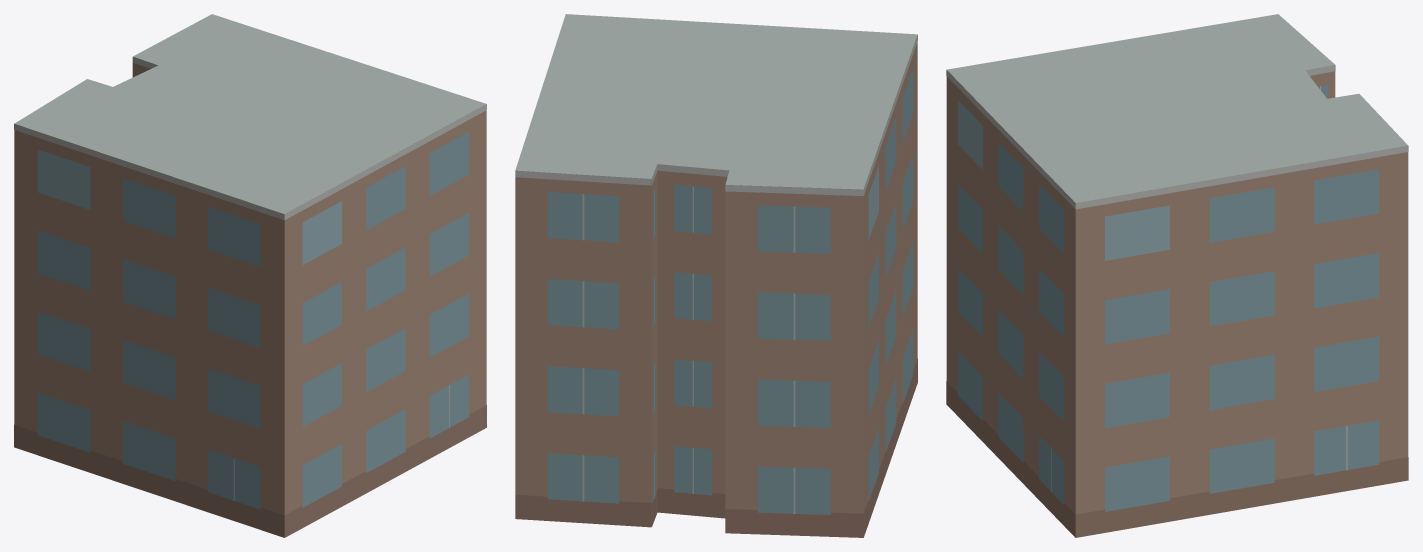
The model's file is survey-upis-32894096.glb.
3 renders of one model, left to right at view 1: azimuth 30°, elevation 25°; view 2: azimuth 150°, elevation 25°; view 3: azimuth 270°, elevation 25°, orthographic. The views are drawn at different scales.
Parts seen in each view (by area): view 1: survey-upis-32894096.tmp; view 2: survey-upis-32894096.tmp; view 3: survey-upis-32894096.tmp.
Boxes of the visible parts, x1,y1,x2,y2 form: survey-upis-32894096.tmp: [14, 14, 486, 537]; survey-upis-32894096.tmp: [515, 14, 917, 537]; survey-upis-32894096.tmp: [946, 14, 1408, 537].
Size of the model in its own units: 15.64 by 12.9 by 16.14.
